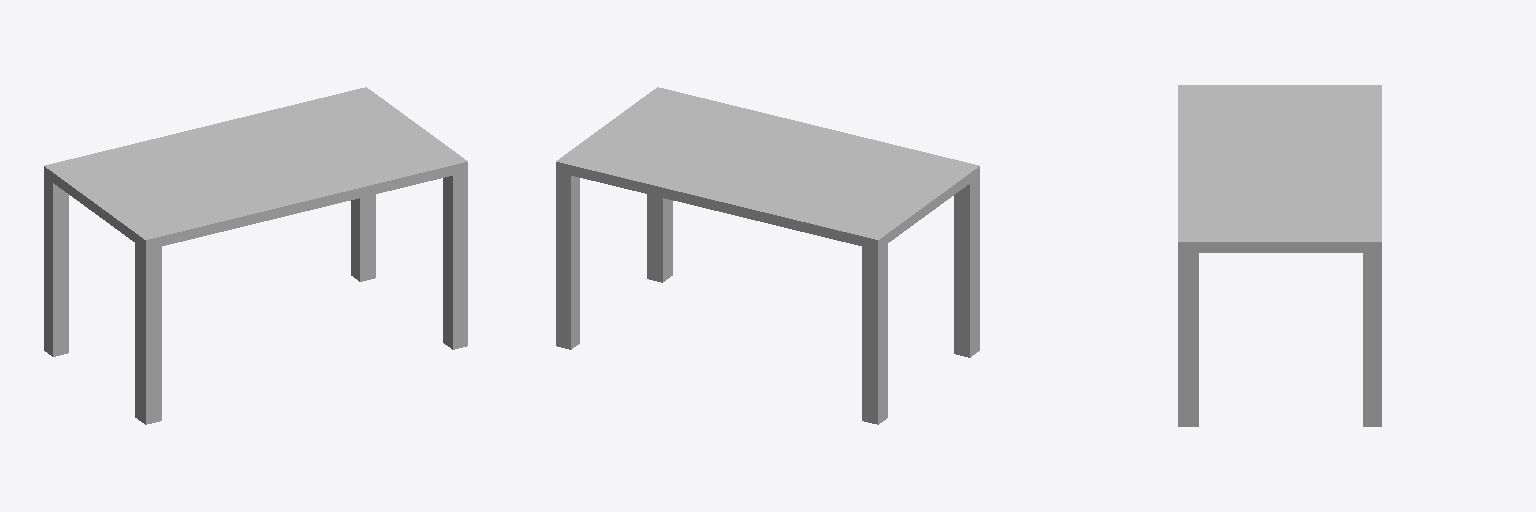
File: table 2.obj
3 views of the same model, side by side, from view 1: azimuth 30°, elevation 25°; view 2: azimuth 150°, elevation 25°; view 3: azimuth 270°, elevation 25° (orthographic).
Parts seen in each view (by area): view 1: Table; view 2: Table; view 3: Table.
Part boxes in pixels (left/top/right/bottom): Table: left=44, top=87, right=467, bottom=424; Table: left=556, top=87, right=979, bottom=424; Table: left=1178, top=85, right=1381, bottom=426.
Bounding box in the file's own units: 5.49 × 3 × 3.